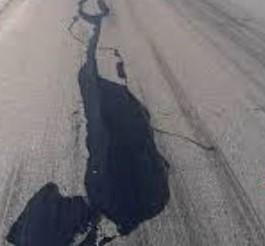crack: (68, 109, 85, 146)
